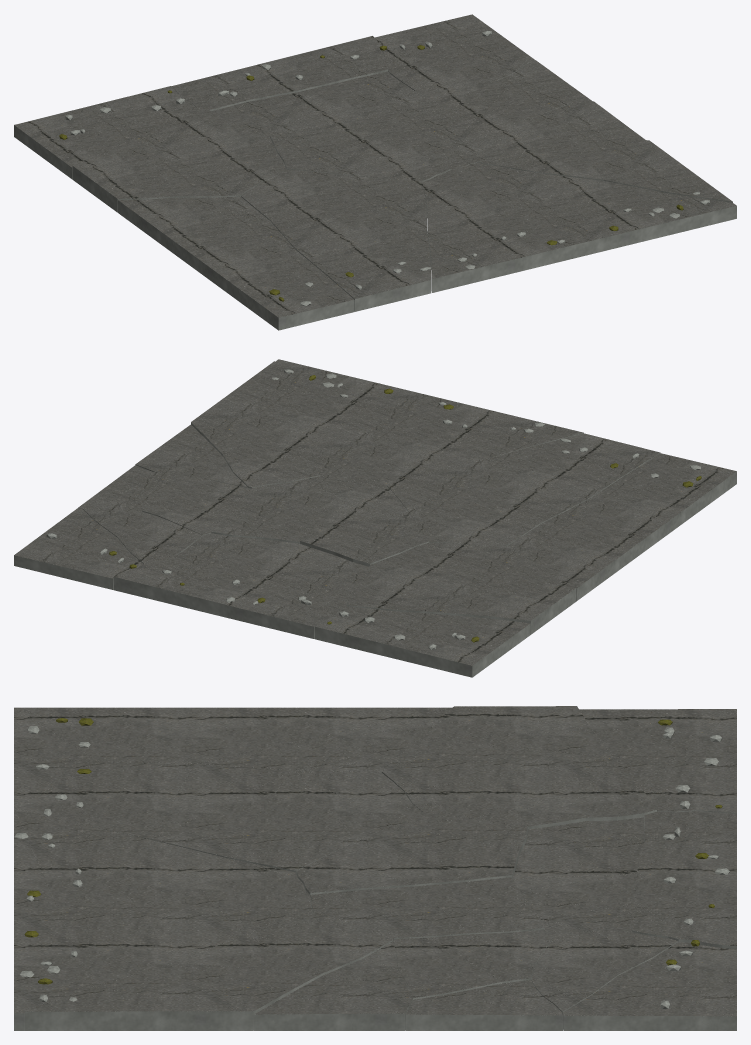
The model's file is f3_v2_fractured_road.glb.
3 renders of one model, top to bottom at view 1: azimuth 30°, elevation 25°; view 2: azimuth 150°, elevation 25°; view 3: azimuth 270°, elevation 25°, orthographic. The views are drawn at different scales.
Visible parts, largest first — view 1: f3_broken_asphalt_surface, f3_exposed_aggregate_surface; view 2: f3_broken_asphalt_surface, f3_exposed_aggregate_surface; view 3: f3_broken_asphalt_surface, f3_exposed_aggregate_surface, f3_damp_concrete_surface.
Part boxes in pixels (x1,y1,x2,y2): f3_broken_asphalt_surface: [14, 14, 736, 317]; f3_exposed_aggregate_surface: [14, 31, 736, 330]; f3_broken_asphalt_surface: [14, 359, 736, 665]; f3_exposed_aggregate_surface: [14, 369, 736, 677]; f3_broken_asphalt_surface: [14, 706, 736, 1016]; f3_exposed_aggregate_surface: [14, 726, 736, 1030]; f3_damp_concrete_surface: [24, 718, 722, 984].
Bounding box in the file's own units: 4 × 0.1378 × 4.
3 materials, 3 textured.
